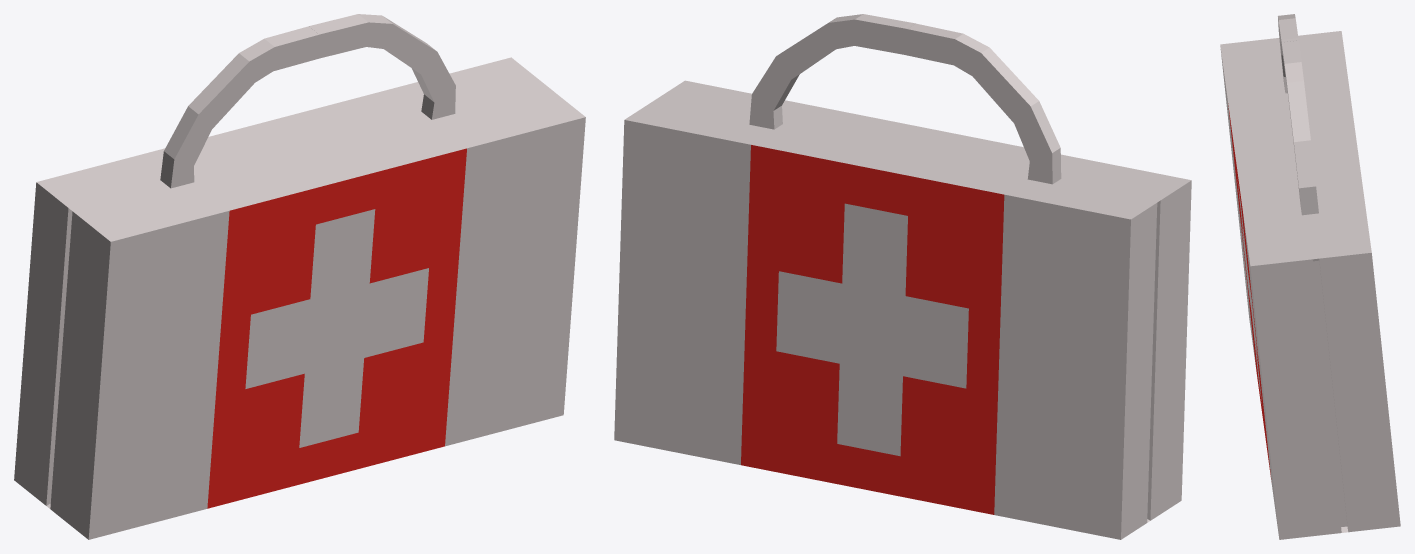
Rendered from Medkit.fbx.
3 renders of one model, left to right at view 1: azimuth 30°, elevation 25°; view 2: azimuth 150°, elevation 25°; view 3: azimuth 270°, elevation 25°, orthographic. The views are drawn at different scales.
Visible parts, largest first — view 1: MedKit.001; view 2: MedKit.001; view 3: MedKit.001.
Part boxes in pixels (x1,y1,x2,y2): MedKit.001: (14,14,585,539); MedKit.001: (614,14,1191,539); MedKit.001: (1220,14,1400,539).
Bounding box in the file's own units: 113 × 94.1 × 39.
